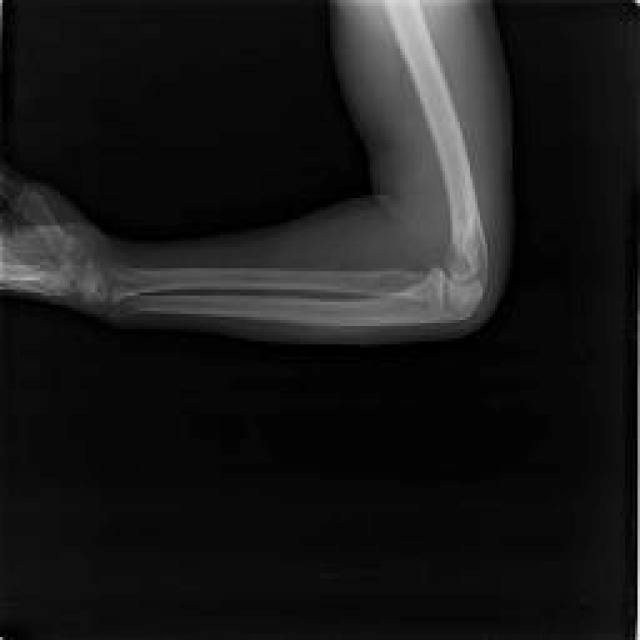normal: (0, 2, 486, 324)
